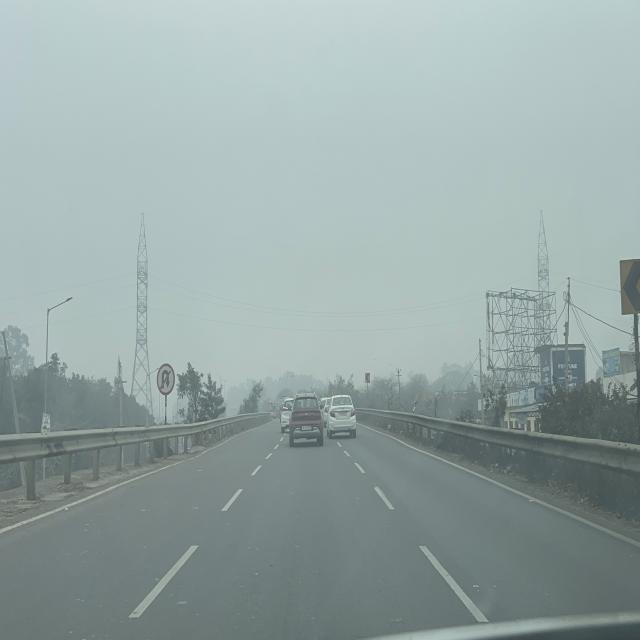TURN_LEFT: (619, 258, 640, 316), (365, 372, 370, 383), (351, 385, 354, 393)
U_TURN_PROHIBITED: (156, 363, 175, 396)
